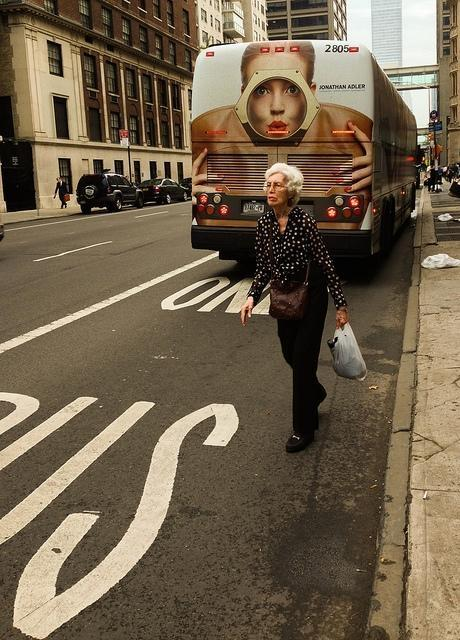bus: (193, 39, 420, 279)
car: (76, 174, 144, 213), (140, 180, 190, 206), (178, 178, 192, 197)
